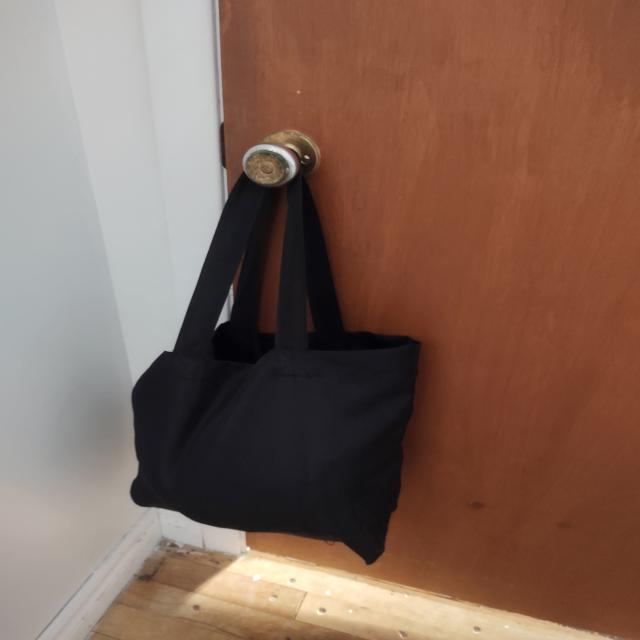door-knob: (242, 130, 321, 188)
